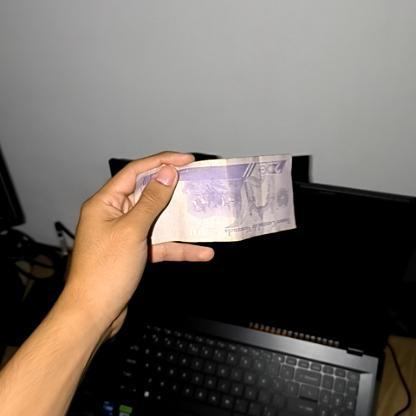ten-back-vef: (176, 154, 297, 242)
